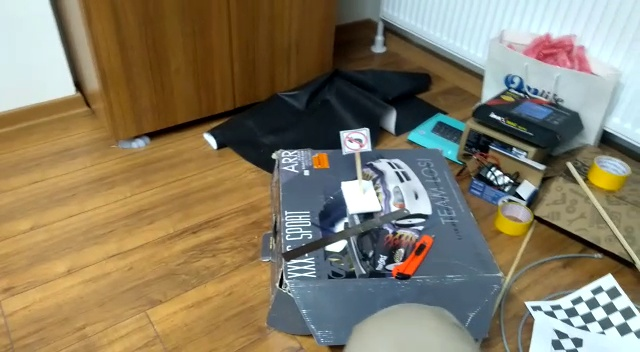sola_donulmez: (344, 128, 368, 152)
